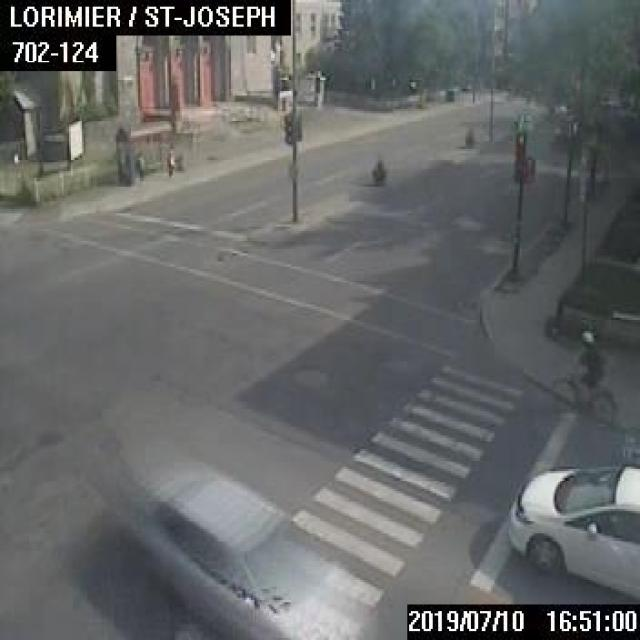cyclist: (548, 327, 614, 424)
vehicle: (125, 466, 364, 638), (504, 460, 638, 600)
